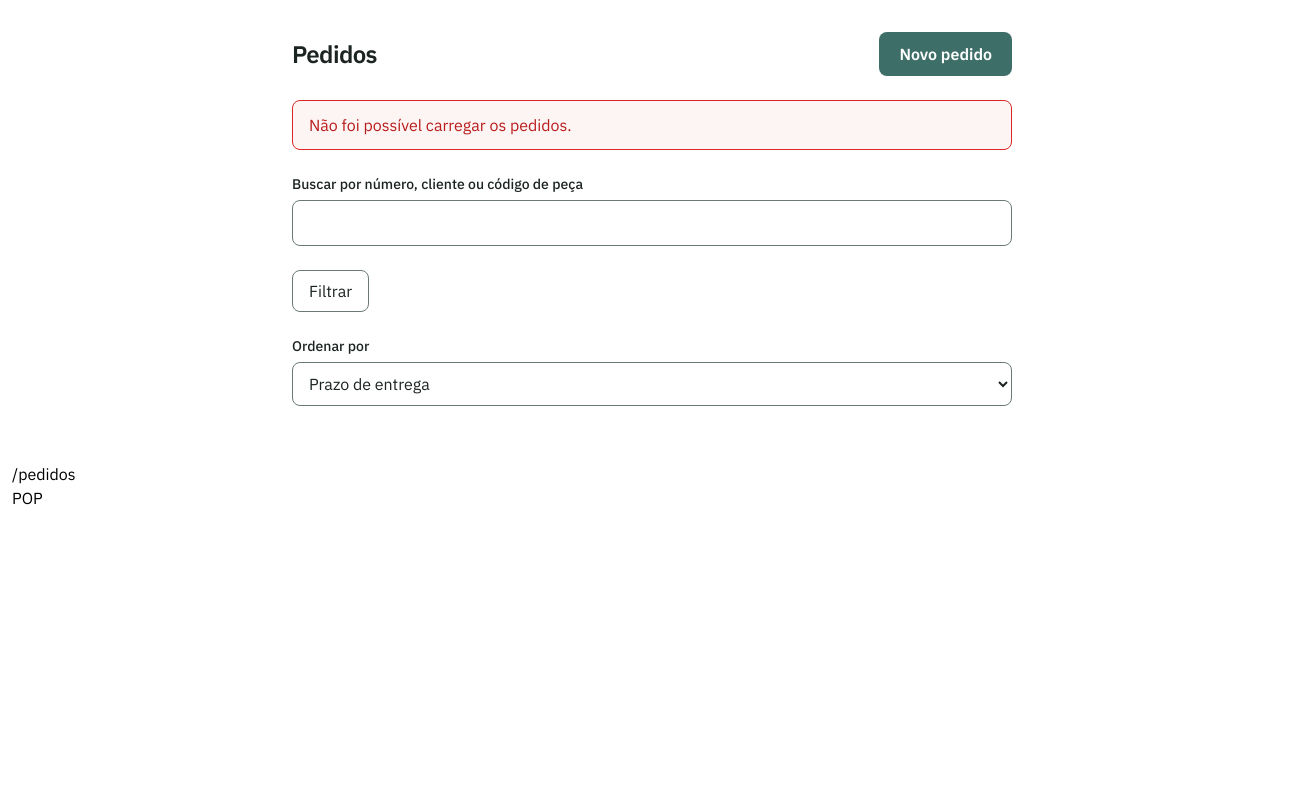
Test case: PedidosPage › limpa a mensagem de erro da carga inicial quando o cadastro seguinte tem sucesso
This screenshot has width=1292, height=789.
Check: the text "Não foi possível carregar os pedidos." is shown, box [292, 100, 1012, 150]
Click the button "Novo pedido". click: (946, 54)
box: [879, 32, 1012, 76]
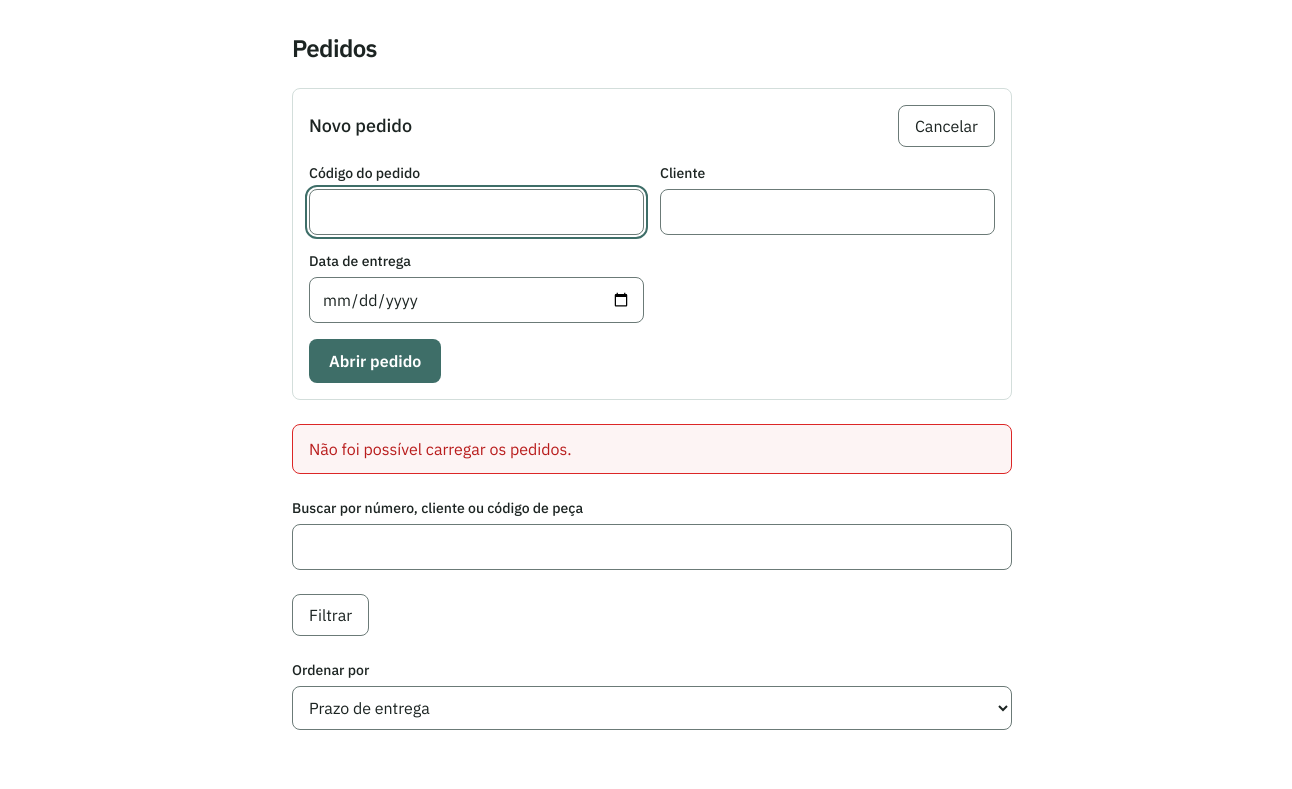
Type "PED-001" into the field labelled "Código do pedido". click: (476, 212)
box: [309, 189, 644, 235]
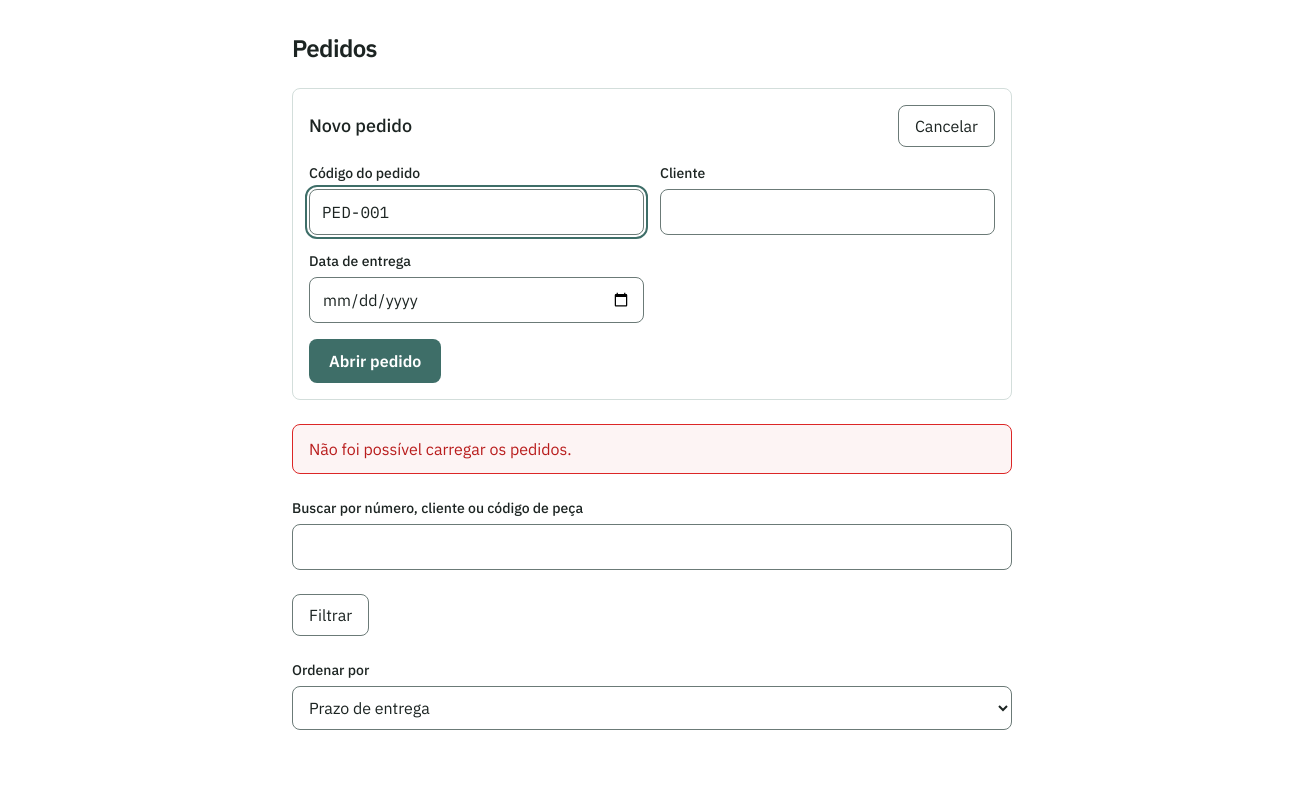
Type "Fábrica Alfa" into the field labelled "Cliente". click: (828, 212)
box: [660, 189, 995, 235]
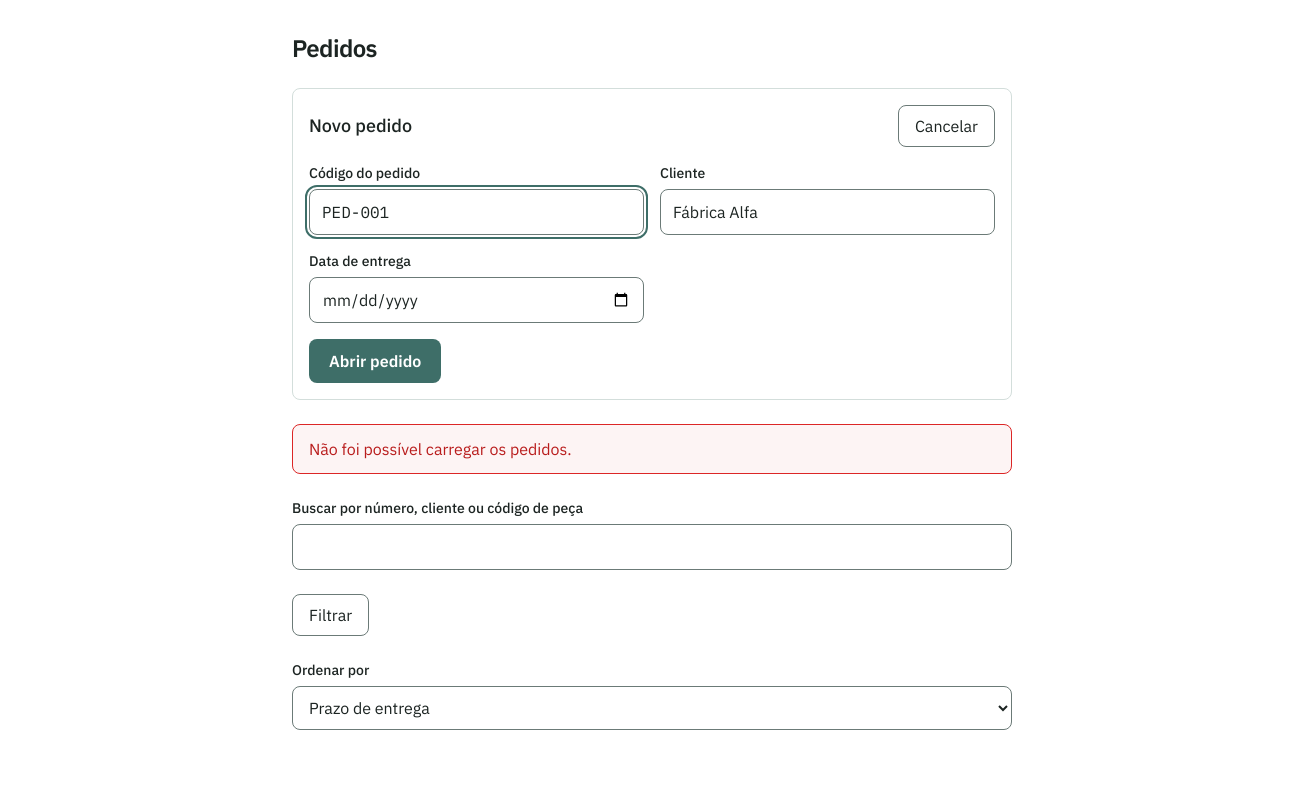
Type "2026-10-22" into the date field labelled "Data de entrega". click: (476, 300)
box: [309, 277, 644, 323]
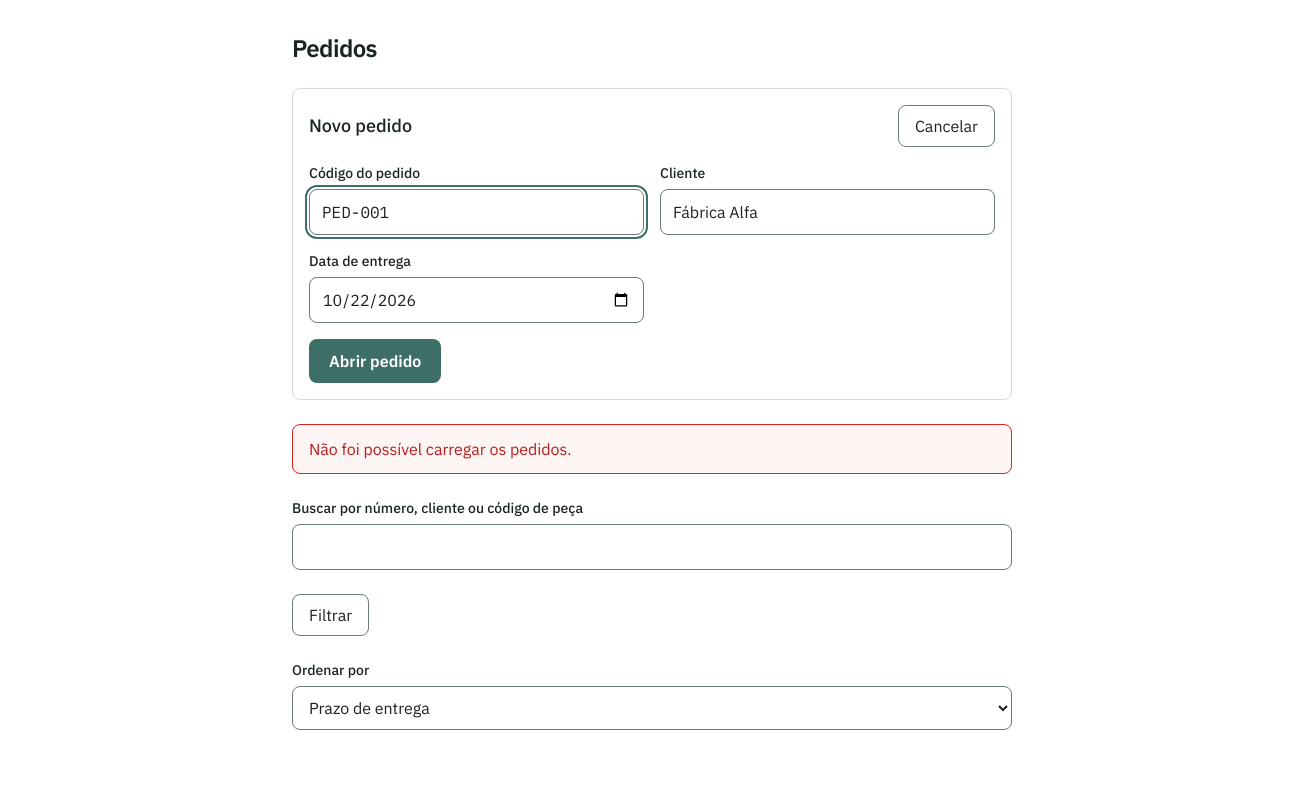
Click the button "Abrir pedido". click: (375, 361)
box: [309, 339, 441, 383]
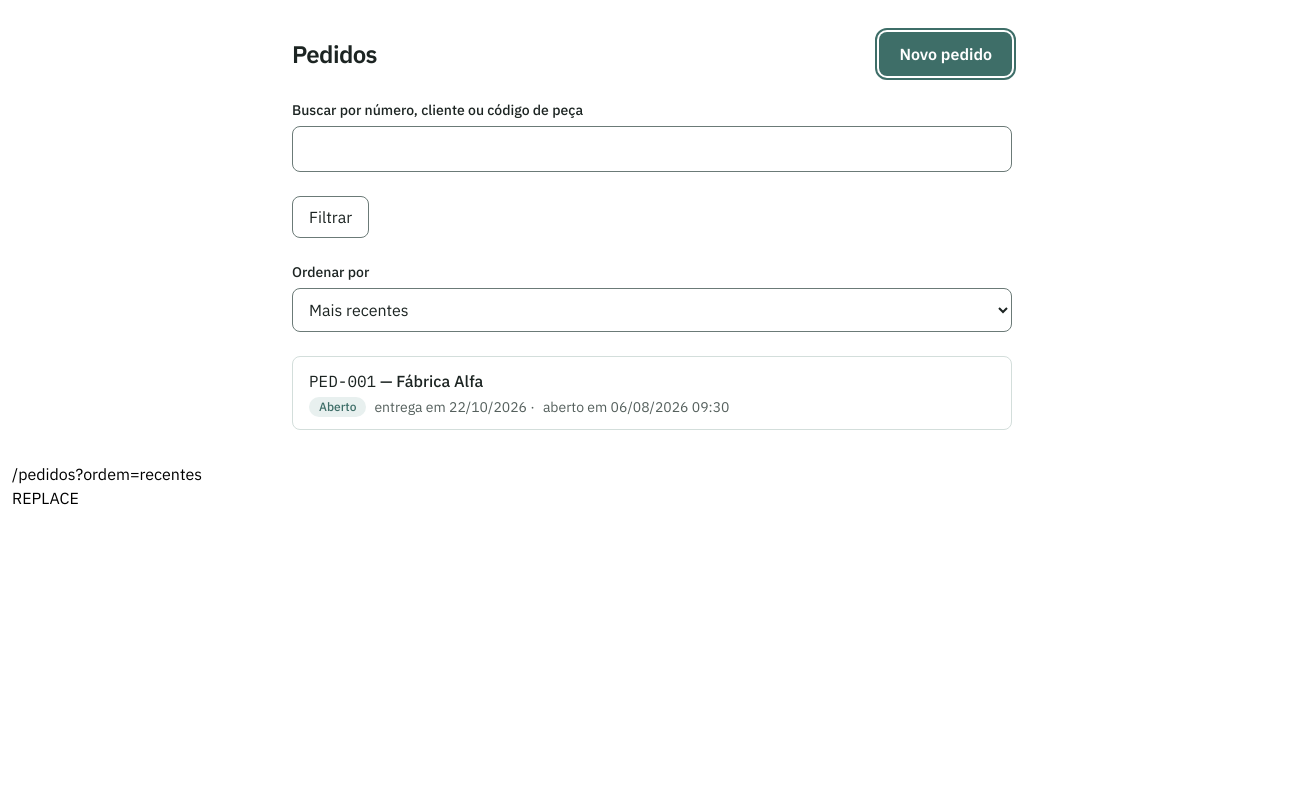
Check: the text "PED-001" is shown, box [309, 371, 376, 391]
Check: the text "Não foi possível carregar os pedidos." is gone
